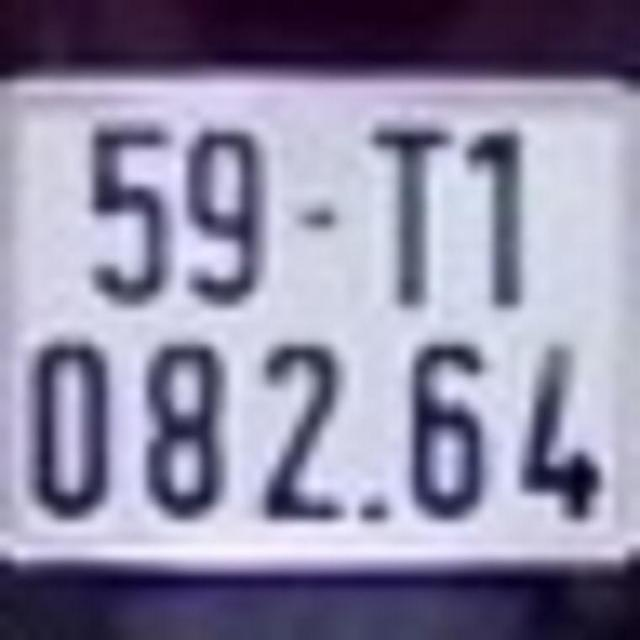0: (33, 338, 106, 512)
1: (461, 127, 522, 312)
2: (263, 343, 346, 524)
4: (522, 339, 602, 519)
5: (88, 120, 168, 299)
6: (408, 342, 484, 516)
8: (146, 340, 219, 518)
9: (183, 128, 264, 304)
T: (369, 127, 455, 315)
